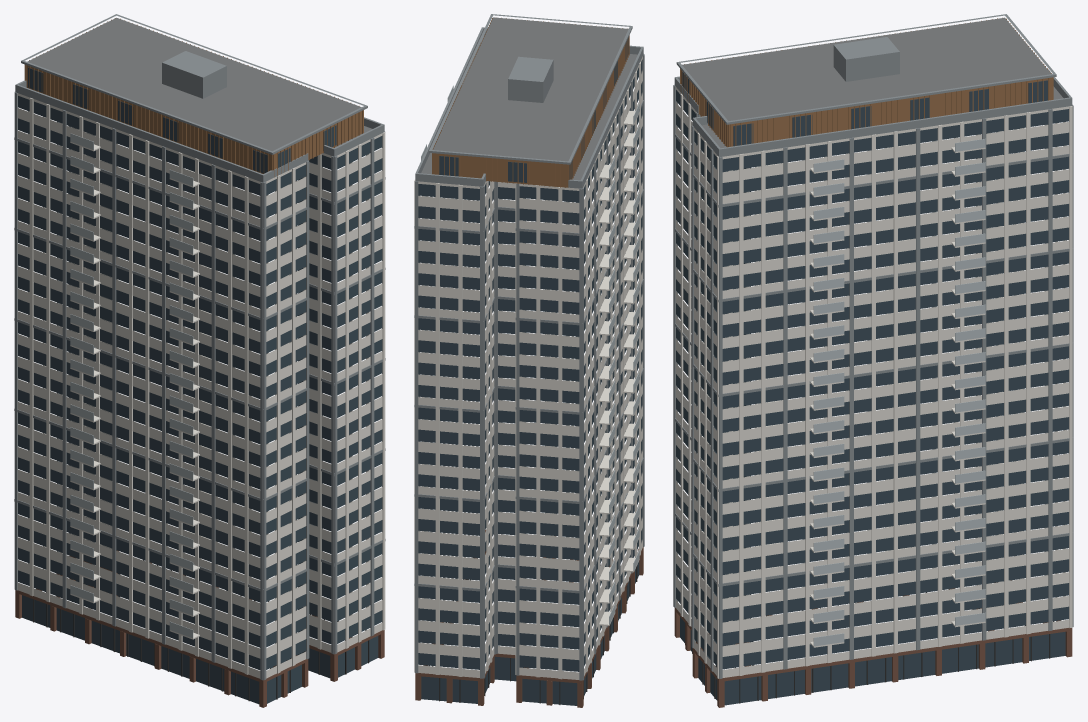
File: stebbing_house.glb
The picture shows the model from 3 angles, left to right: view 1: azimuth 30°, elevation 25°; view 2: azimuth 150°, elevation 25°; view 3: azimuth 270°, elevation 25°; orthographic projection. The views are drawn at different scales.
Size of the model in its own units: 30.22 by 69.54 by 42.07.
